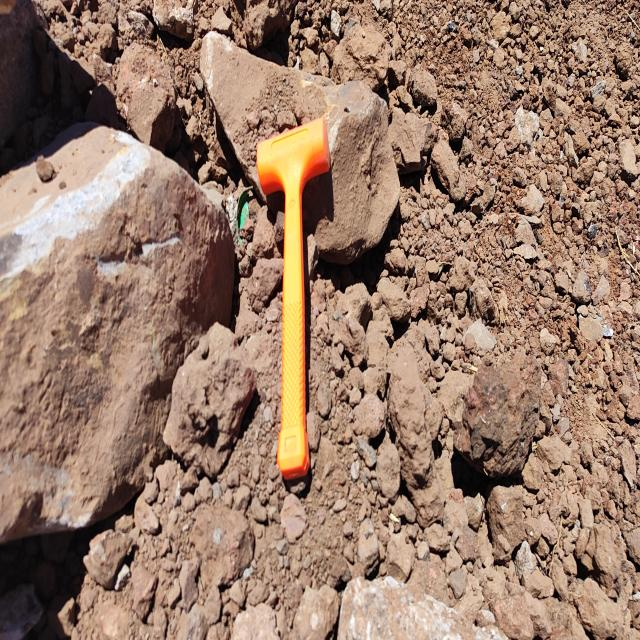Orange_hammer: (255, 115, 331, 481)
